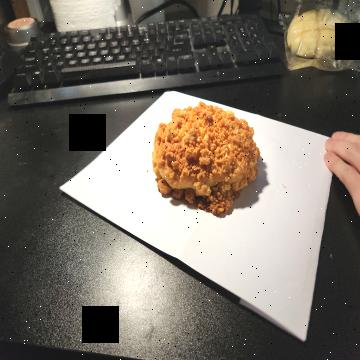soboru_bread: (150, 100, 259, 216)
